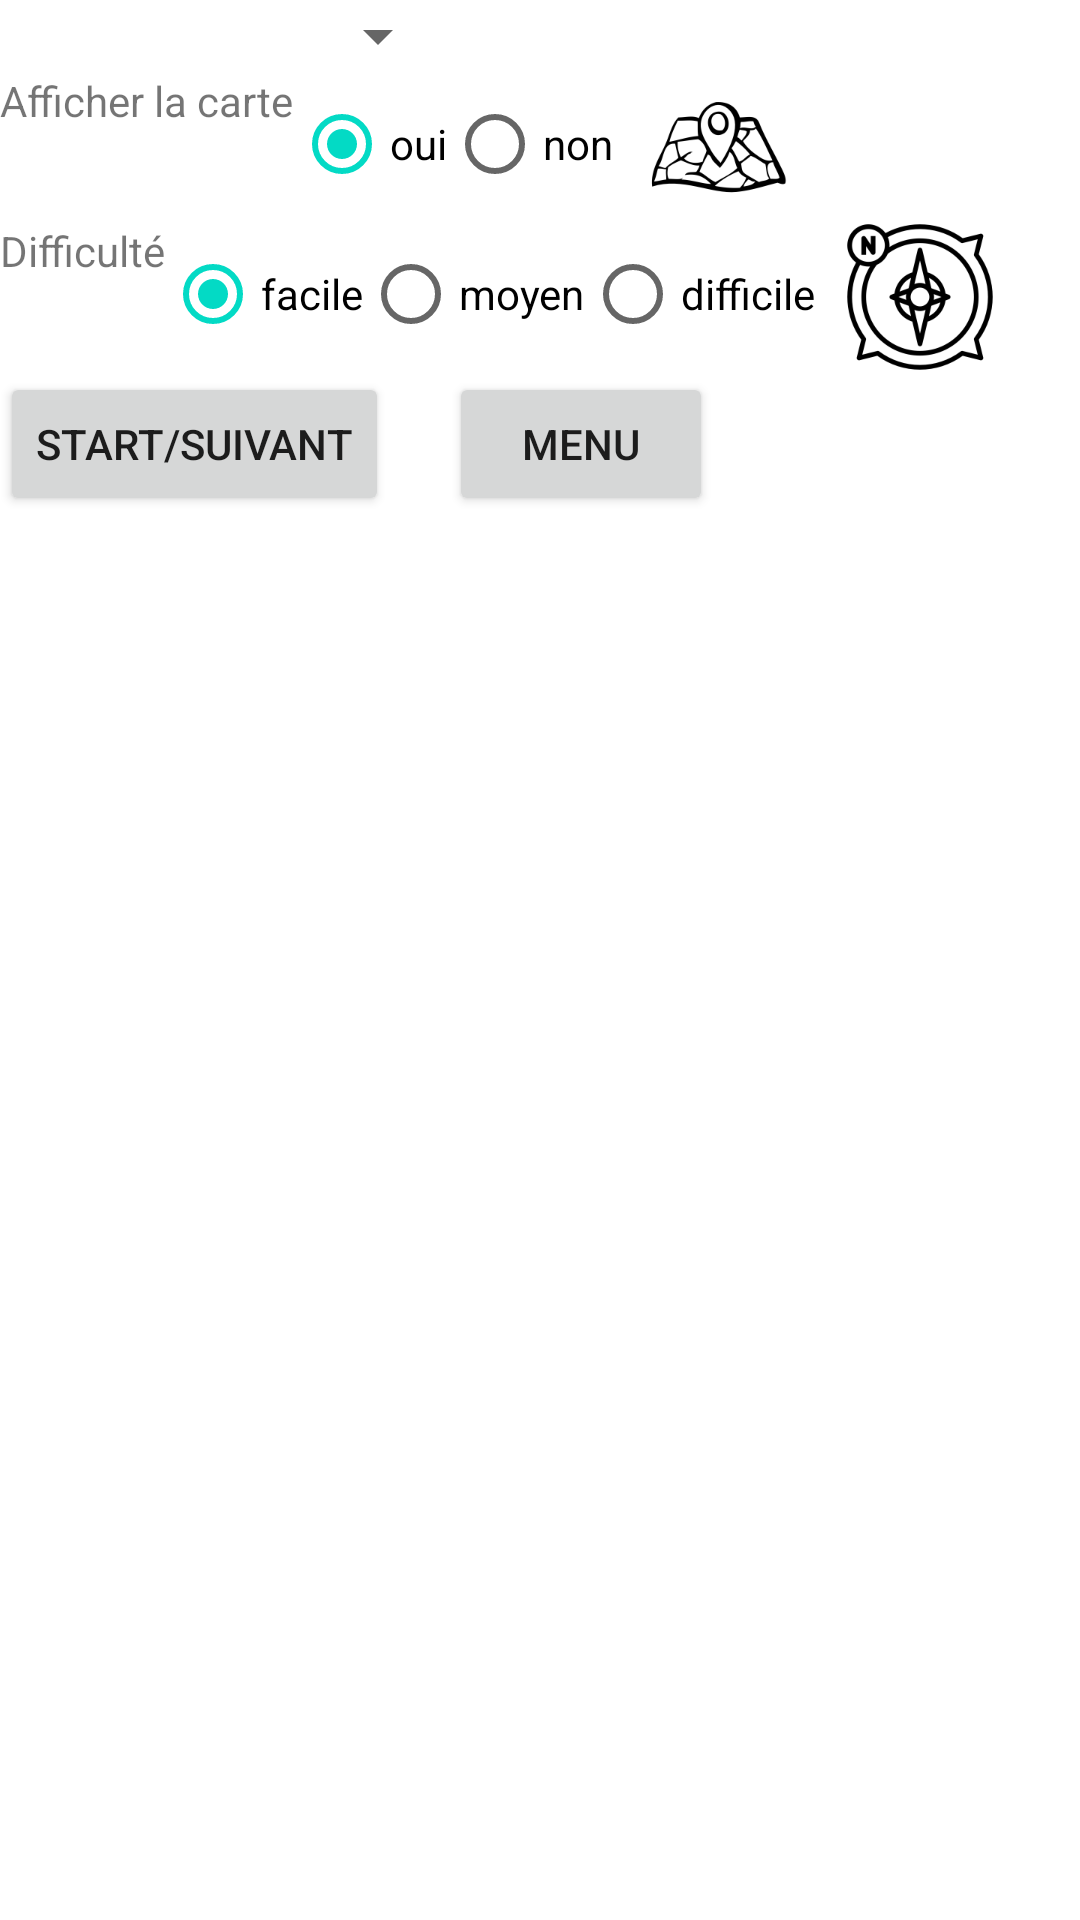

Named icons in this screenshot (1080 x 1920) and their bounding boxes, bbox=(x1, y1, x2, y2):
boussole: bbox=(847, 224, 993, 370)
maps: bbox=(652, 102, 786, 193)
